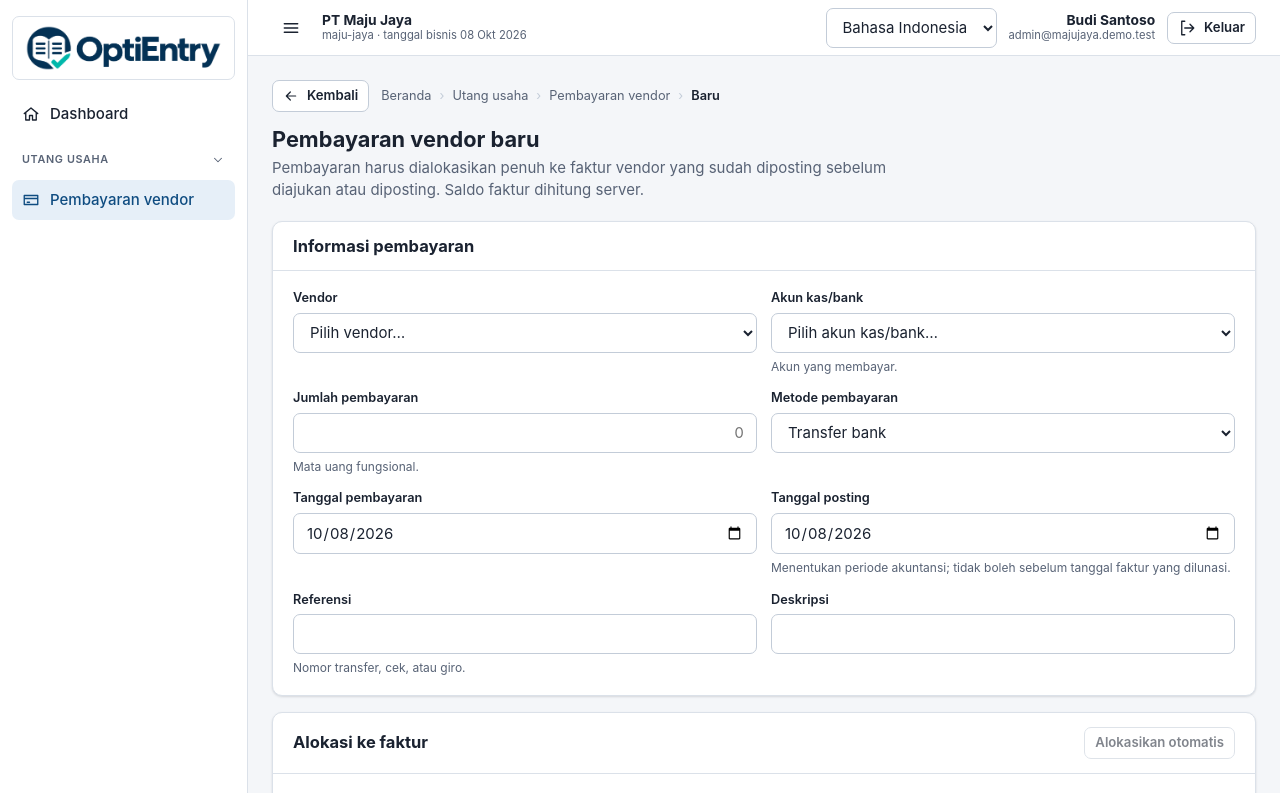
Scenario: vendor payment editor › warns when an allocation is larger than the invoice balance, without sending anything
Check: the heading "Pembayaran vendor baru" is shown, box top-left (272, 126), bottom-right (539, 152)
Select "V1 · PT Sumber Makmur" in the dropdown labelled "Vendor". click: (525, 333)
box: top-left (293, 313), bottom-right (757, 353)
(page scrolled)
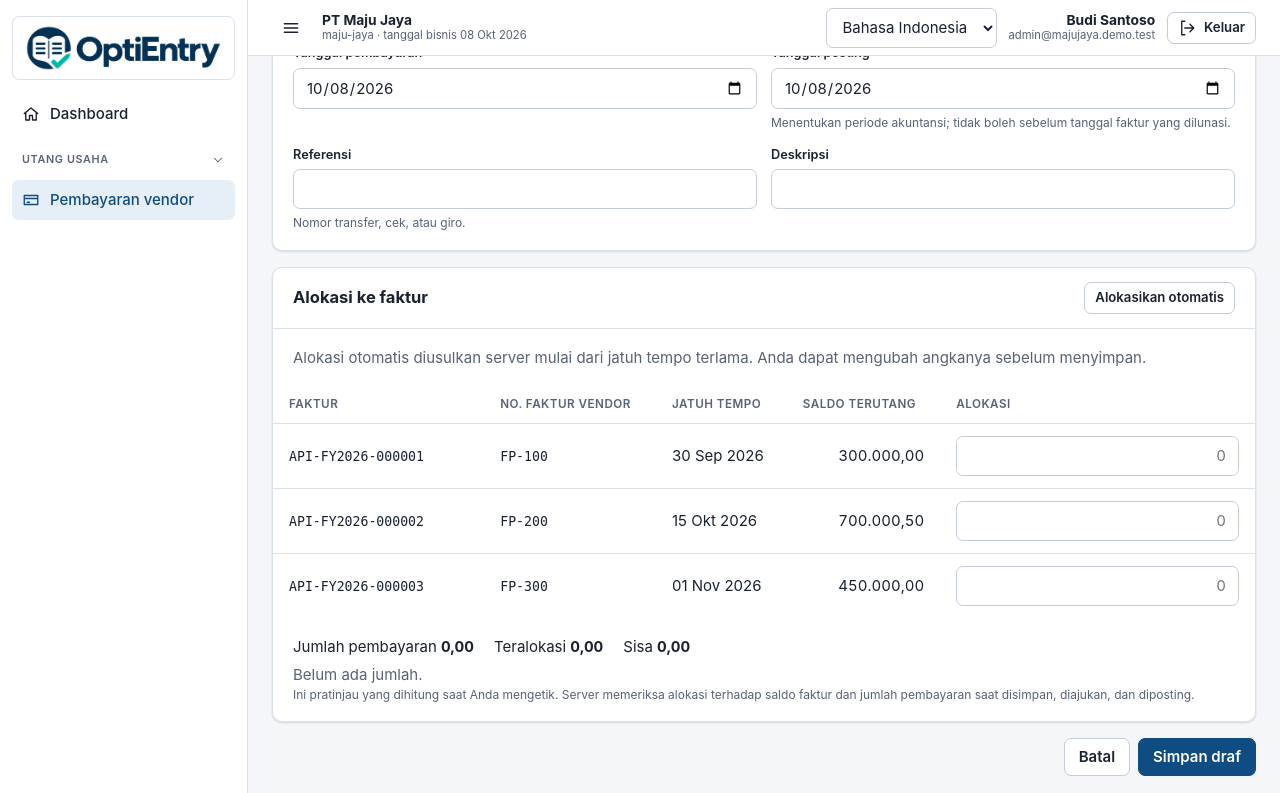
Check: the field named "Alokasi API-FY2026-000001" is shown
Type "300000,01" into the field named "Alokasi API-FY2026-000001". click: (1098, 456)
box: top-left (956, 436), bottom-right (1239, 476)
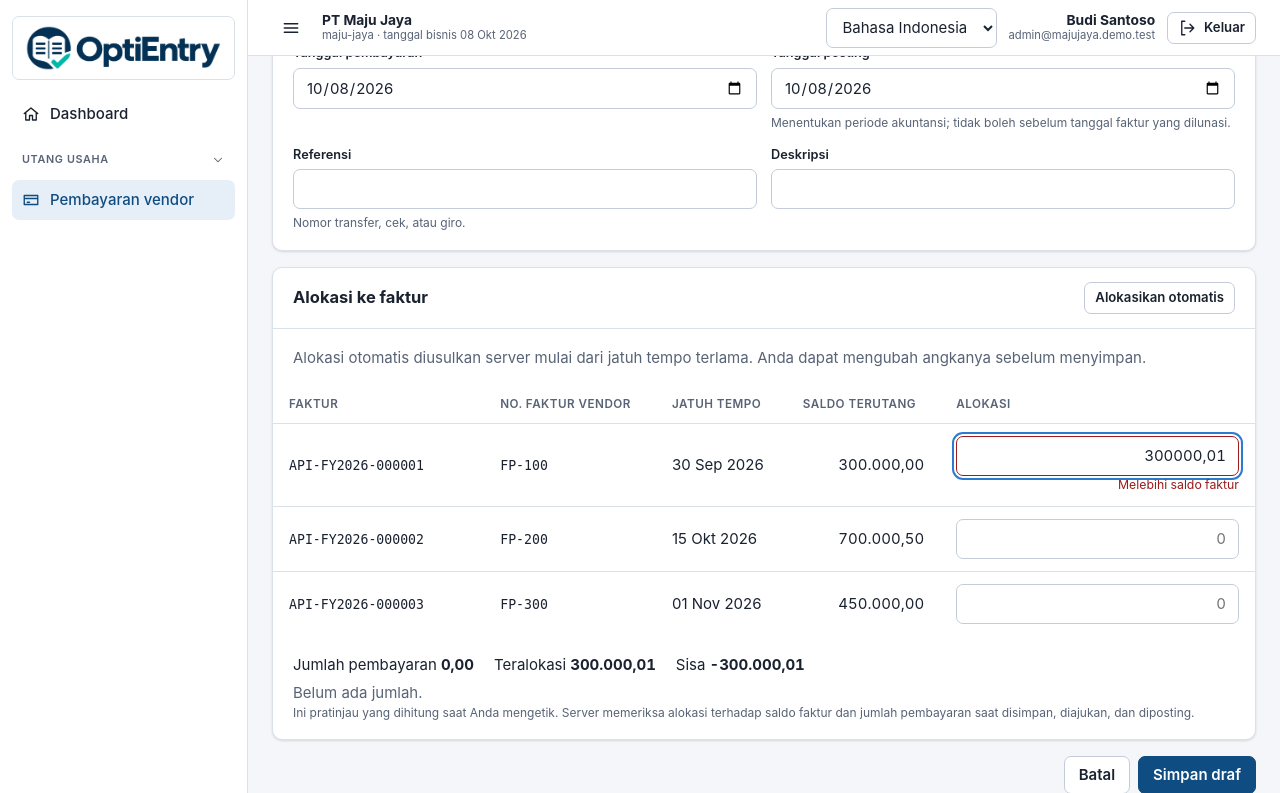
Check: the text "Melebihi saldo faktur" is shown, box top-left (1118, 477), bottom-right (1239, 492)
